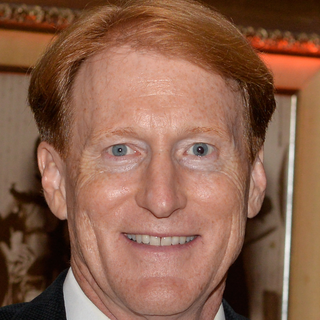eye: (99, 139, 144, 164), (176, 139, 220, 164)
